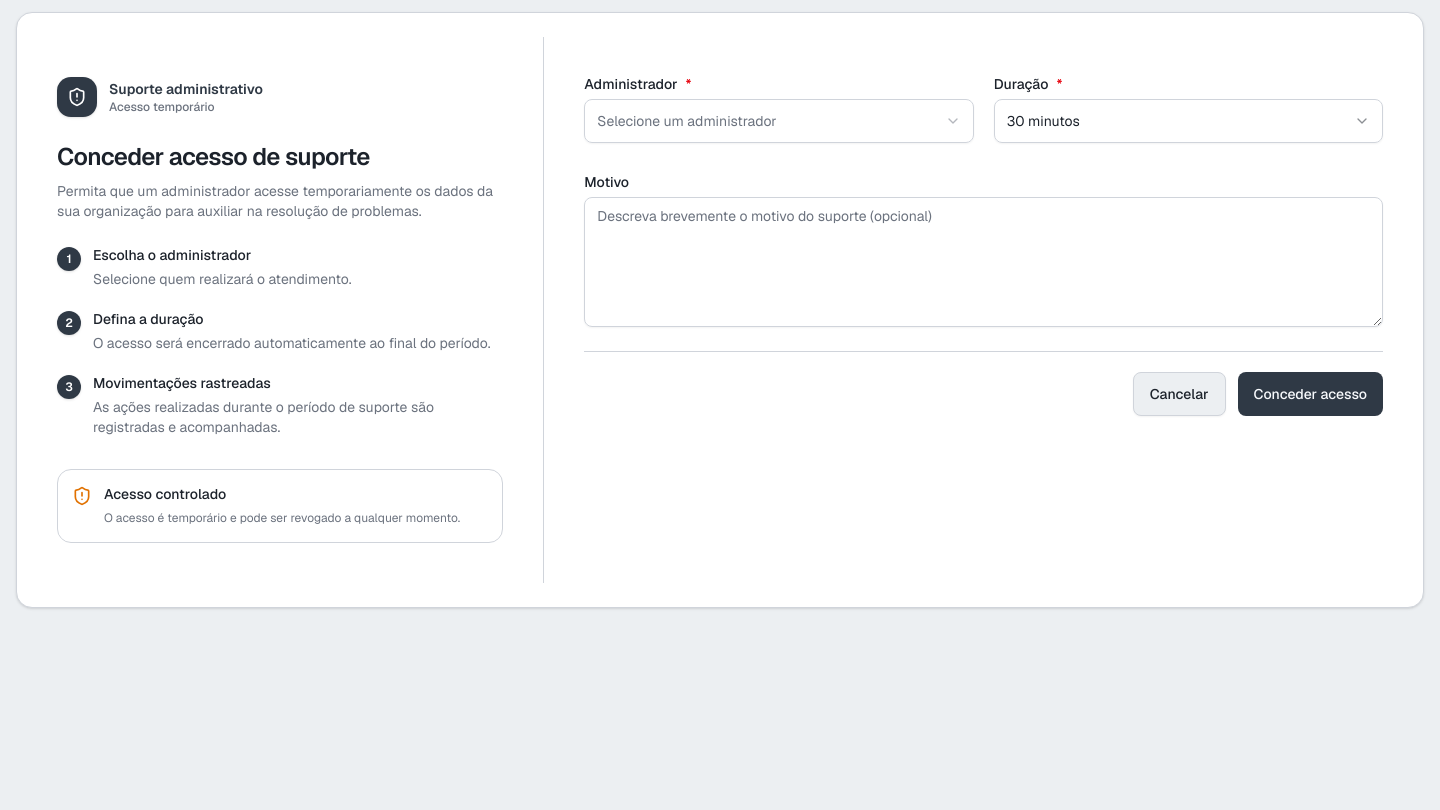
AcessoSuporteFormConceder › a confirmação resume o administrador e a duração escolhidos (valores observados)
Click the dropdown labelled "Selecione um administrador": (779, 121) x1=584 y1=99 x2=974 y2=143
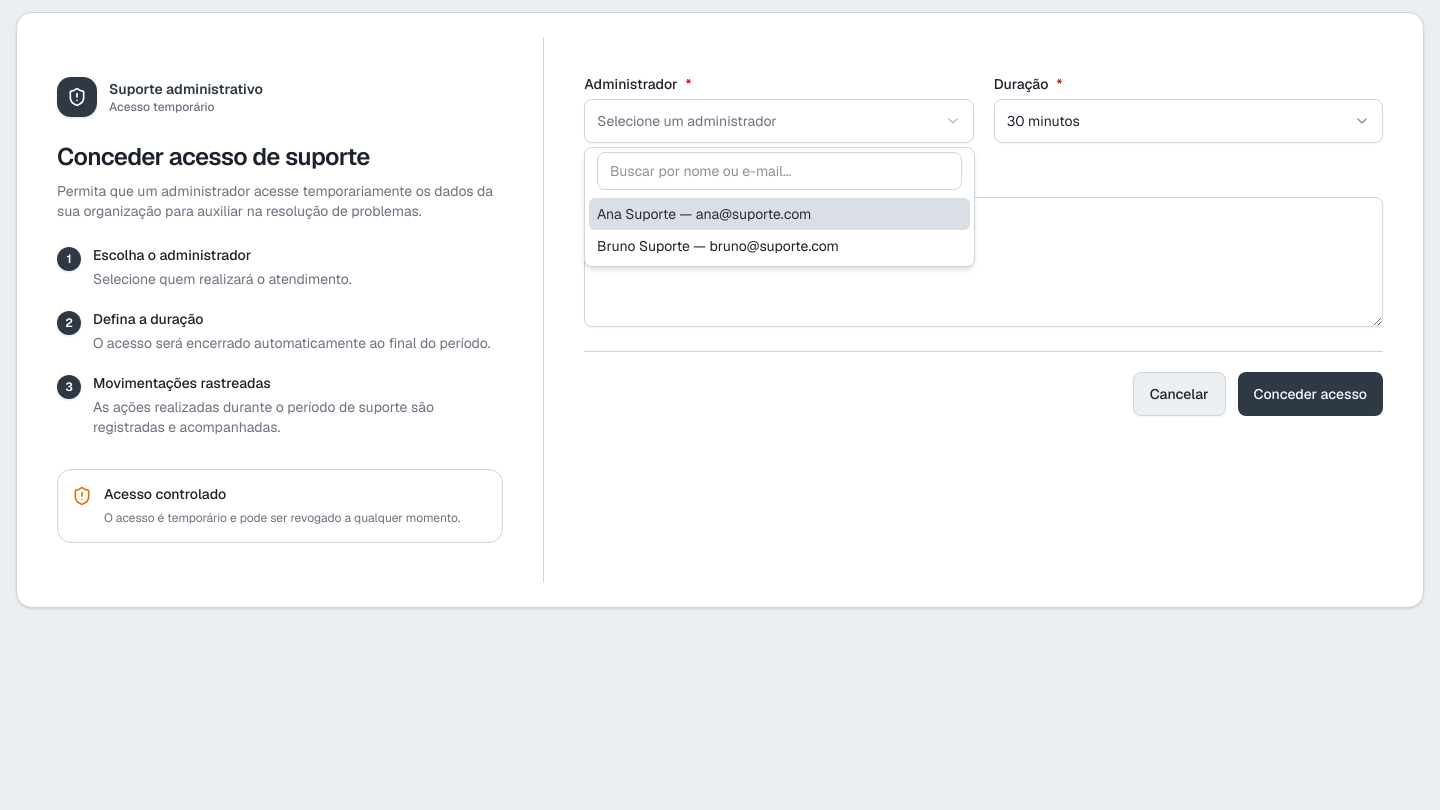
Click the option "Bruno Suporte — bruno@suporte.com": (718, 246) x1=597 y1=237 x2=839 y2=255
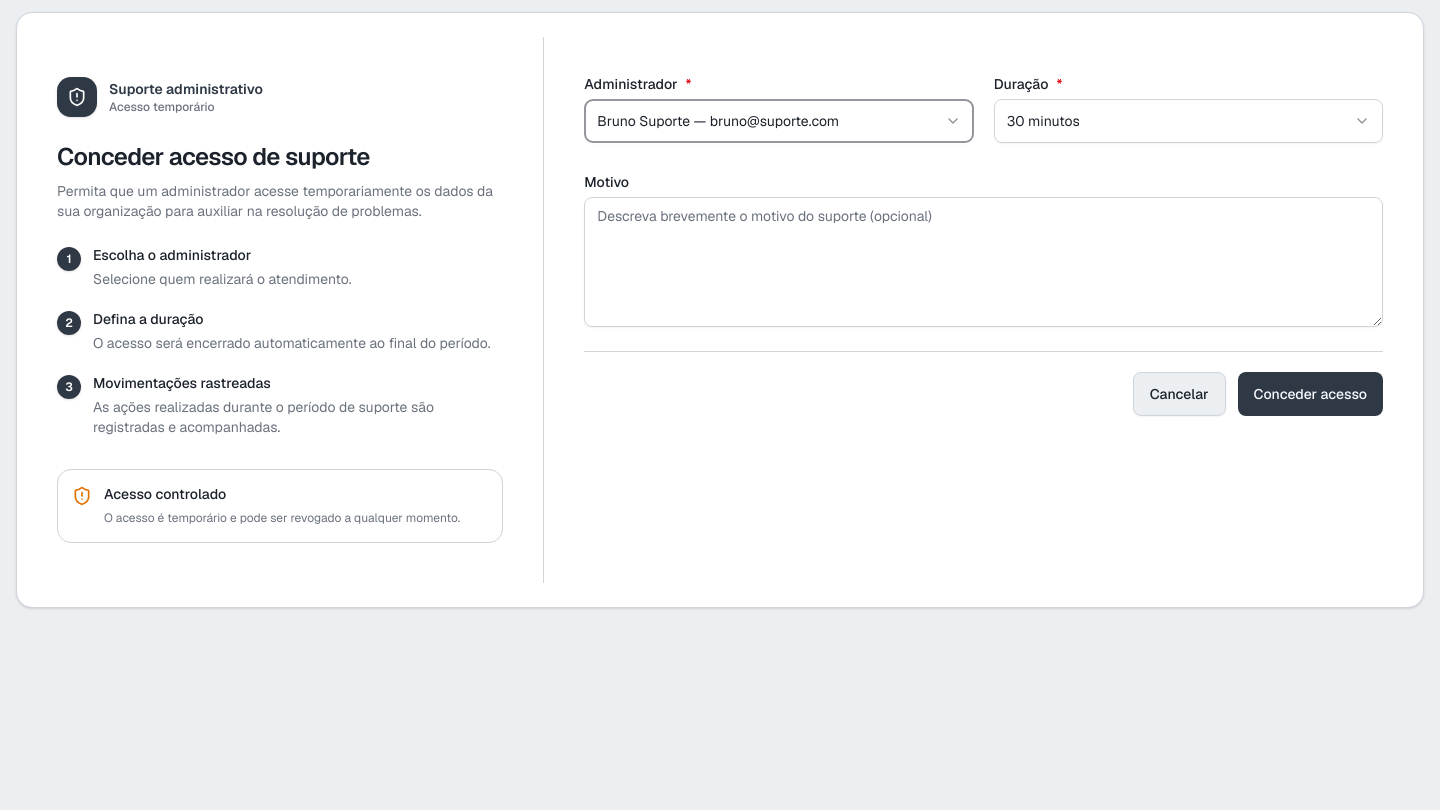
Click the dropdown named "duração": (1043, 121) x1=994 y1=99 x2=1383 y2=143
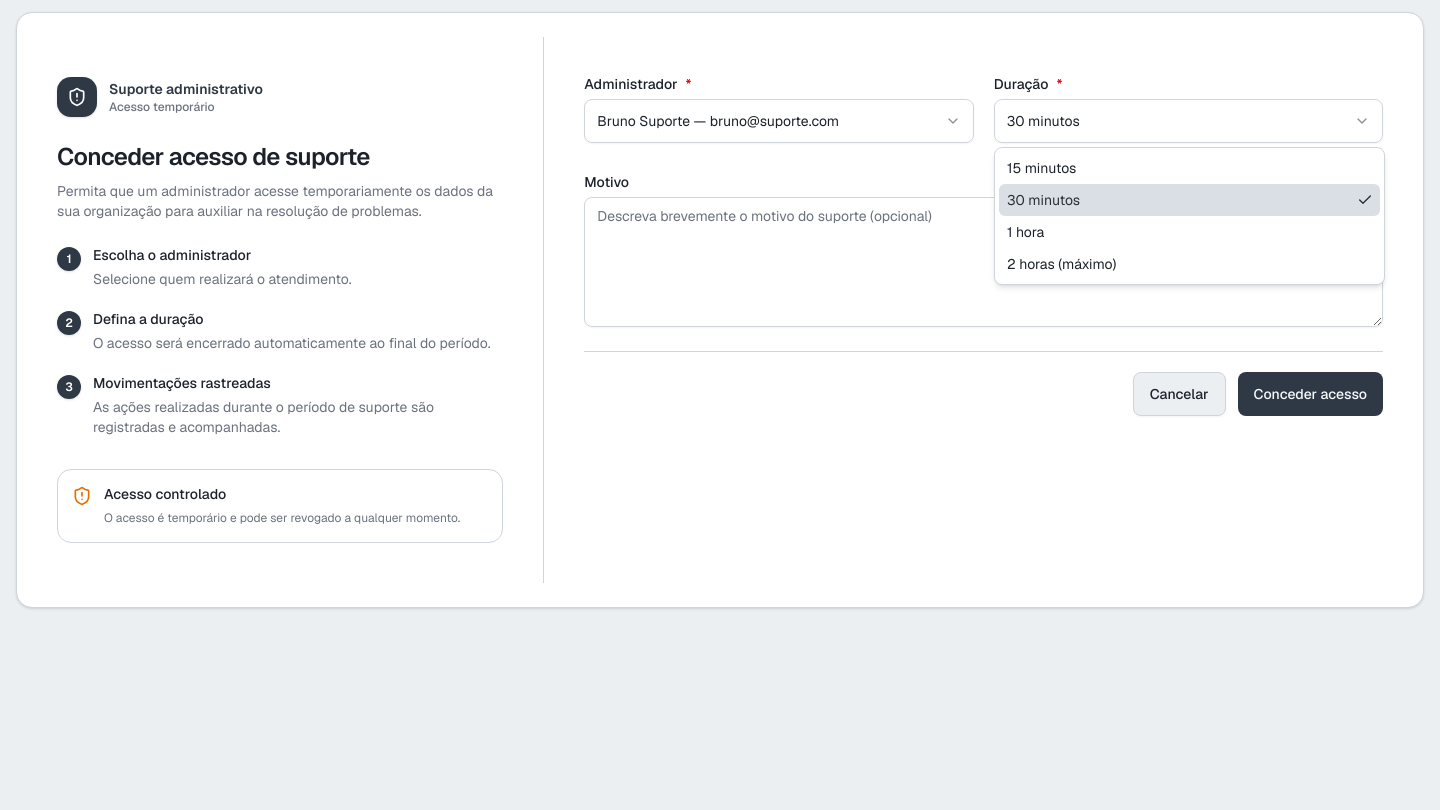
Click the option "2 horas (máximo)": (1062, 264) x1=1007 y1=255 x2=1116 y2=273
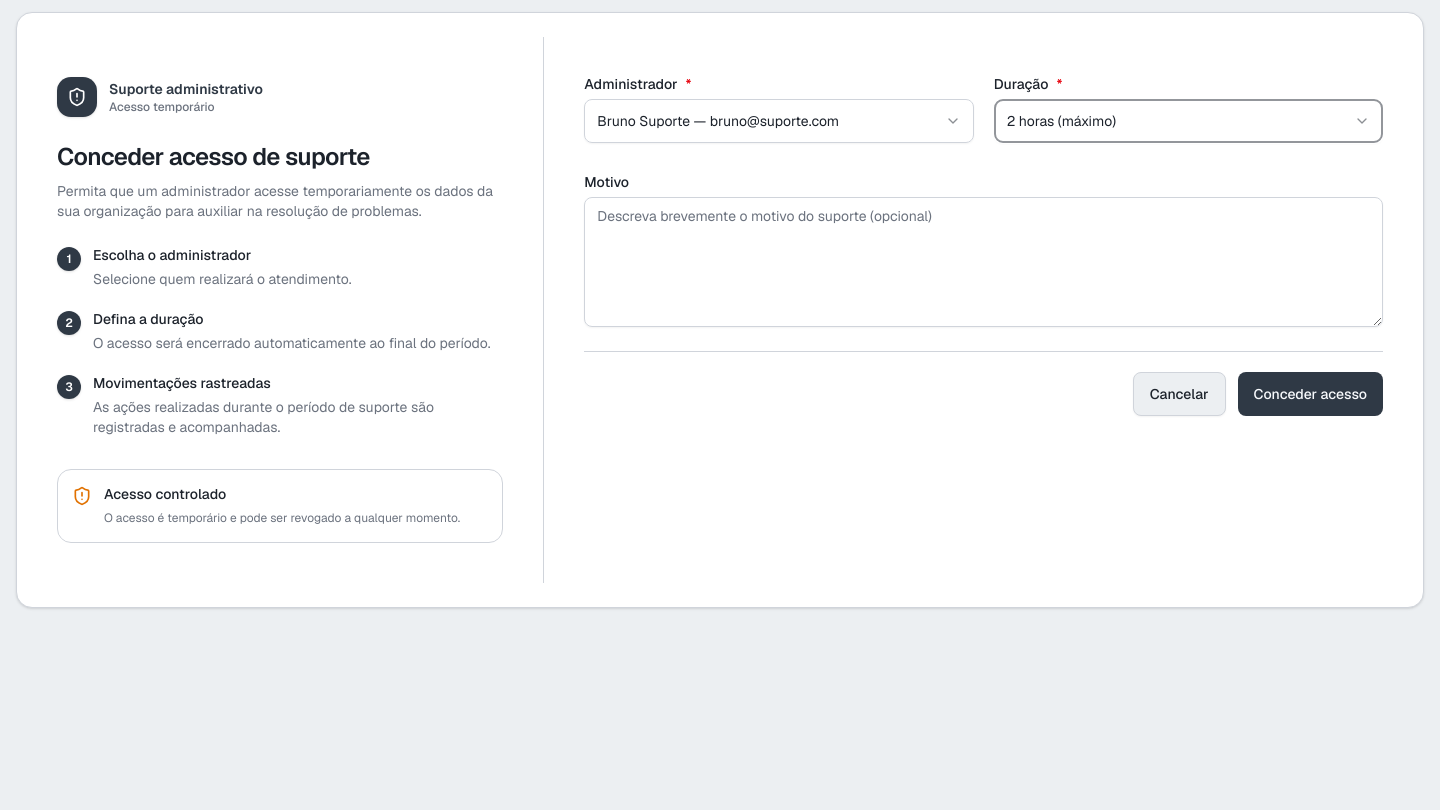
Click the button "Conceder acesso": (1310, 394) x1=1238 y1=372 x2=1383 y2=416
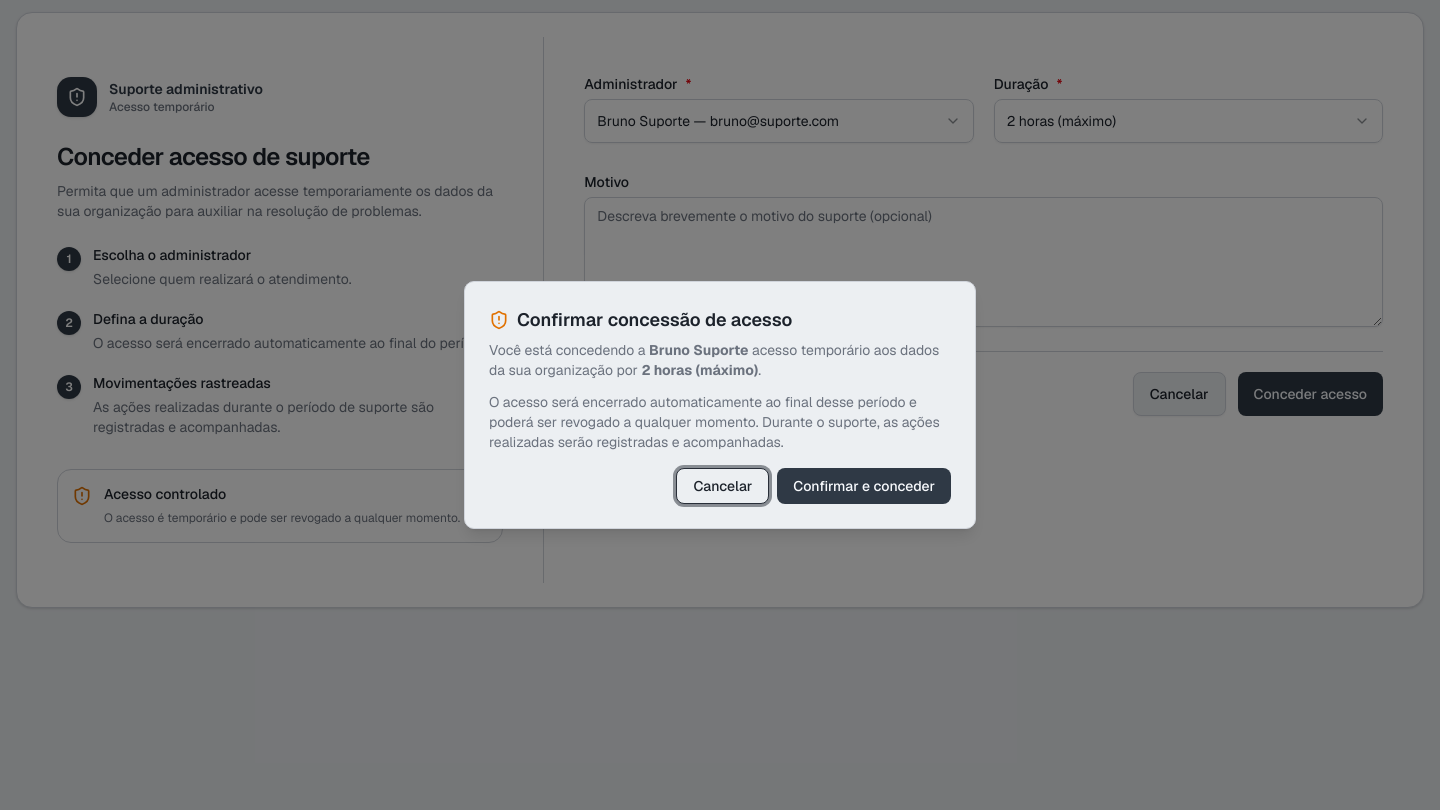
Now the text "Bruno Suporte" is shown, box x1=649 y1=341 x2=748 y2=359
Now the text "2 horas (máximo)" is shown, box x1=641 y1=361 x2=758 y2=379
